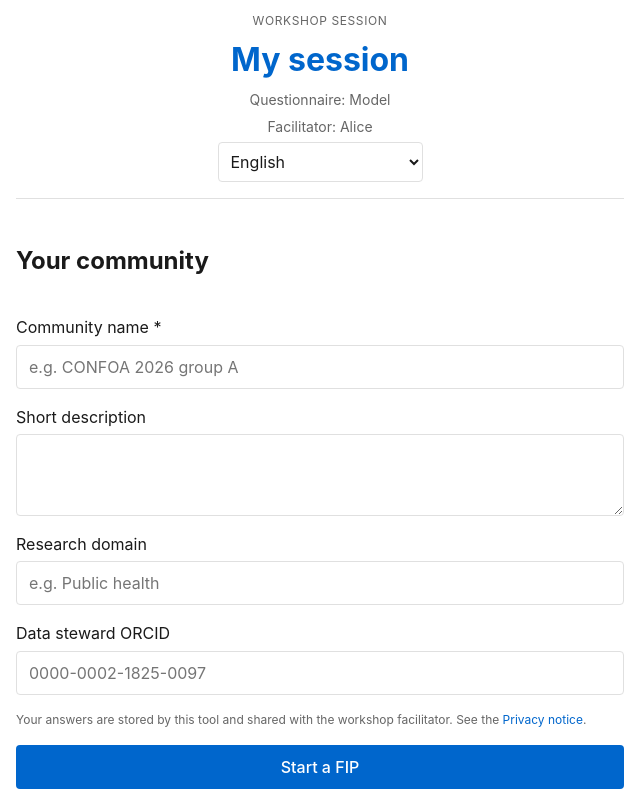
Test: JoinSession.vue › maps a 404 questionnaire_not_found from POST /fips to a specific message, not the generic server error
This screenshot has width=641, height=806.
In the field labelled "Community name *": point(320, 367) [16,345,624,389], type "My community"
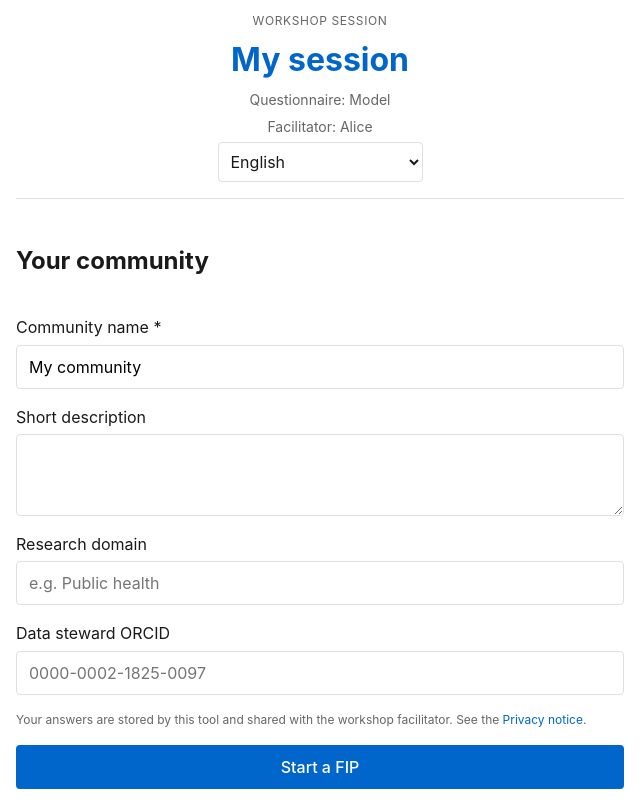
Submit the form
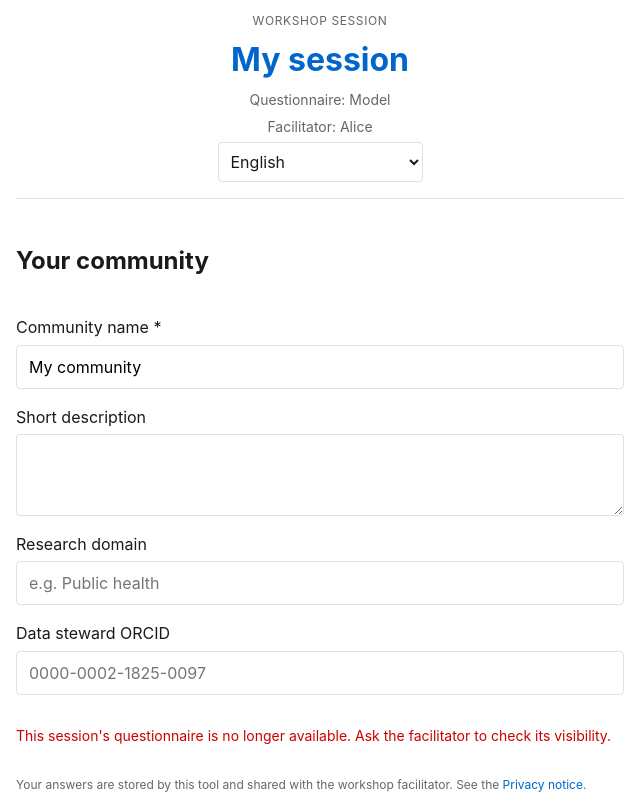
Check: the text "This session's questionnaire is no longer available. Ask the facilitator to check its visibility." is shown, box [16,727,611,744]
